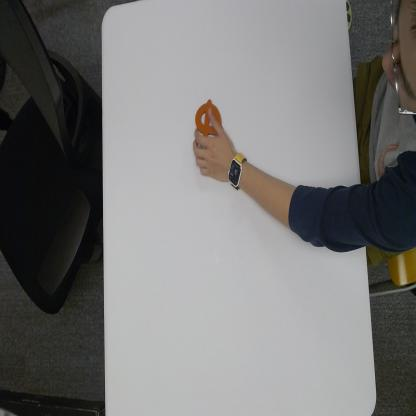Arm: (247, 158, 364, 254)
Hand: (192, 108, 229, 183)
Pretzel: (194, 98, 222, 136)
